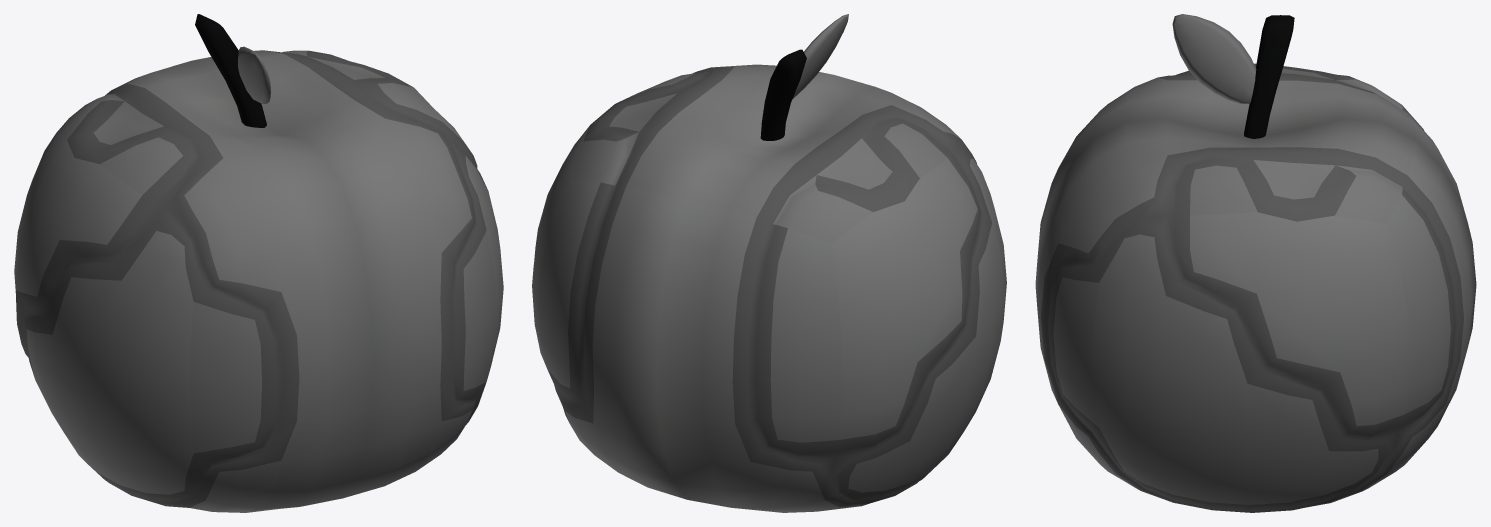
File: apple_steel.fbx
3 renders of one model, left to right at view 1: azimuth 30°, elevation 25°; view 2: azimuth 150°, elevation 25°; view 3: azimuth 270°, elevation 25°, orthographic. The views are drawn at different scales.
Parts seen in each view (by area): view 1: apple_standart, apple_standart.001; view 2: apple_standart, apple_standart.001; view 3: apple_standart, apple_standart.001.
Part boxes in pixels (<box>): apple_standart: <box>14,50,503,512</box>; apple_standart.001: <box>195,14,270,127</box>; apple_standart: <box>532,64,1006,512</box>; apple_standart.001: <box>760,14,848,140</box>; apple_standart: <box>1035,63,1476,512</box>; apple_standart.001: <box>1172,14,1294,138</box>.
Size of the model in its own units: 60.49 by 60.09 by 57.66.
